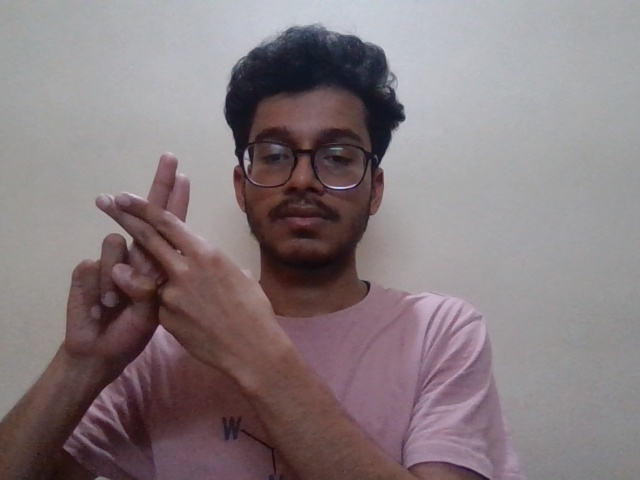disabled: (50, 147, 298, 396)
